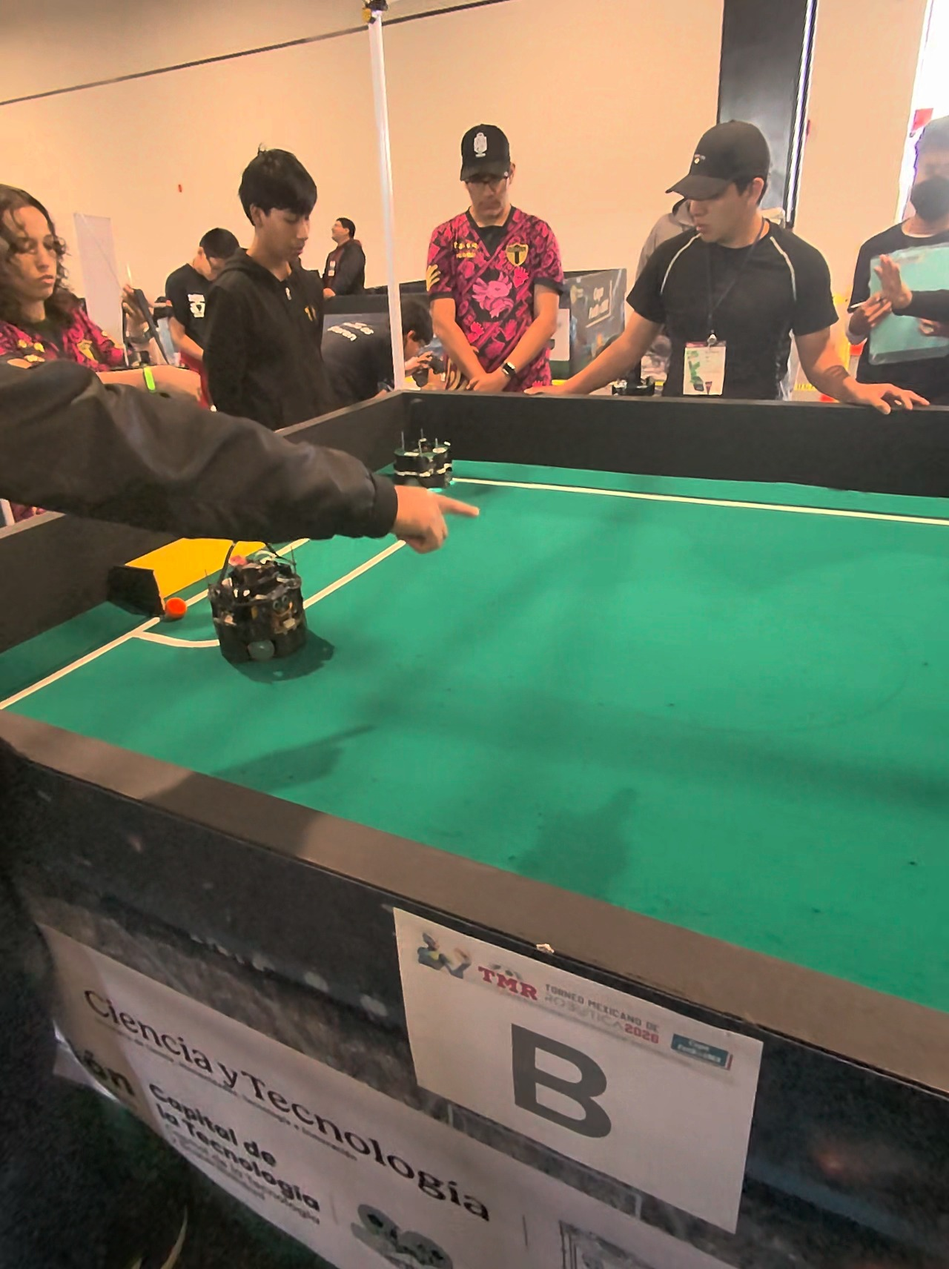Robot: (207, 537, 317, 687), (390, 397, 457, 496)
pelota: (159, 586, 177, 617)
